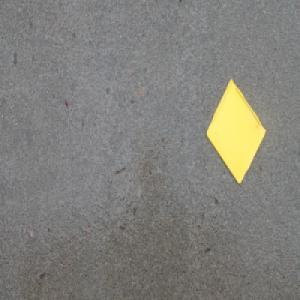PlasticPart: (204, 78, 266, 186)
